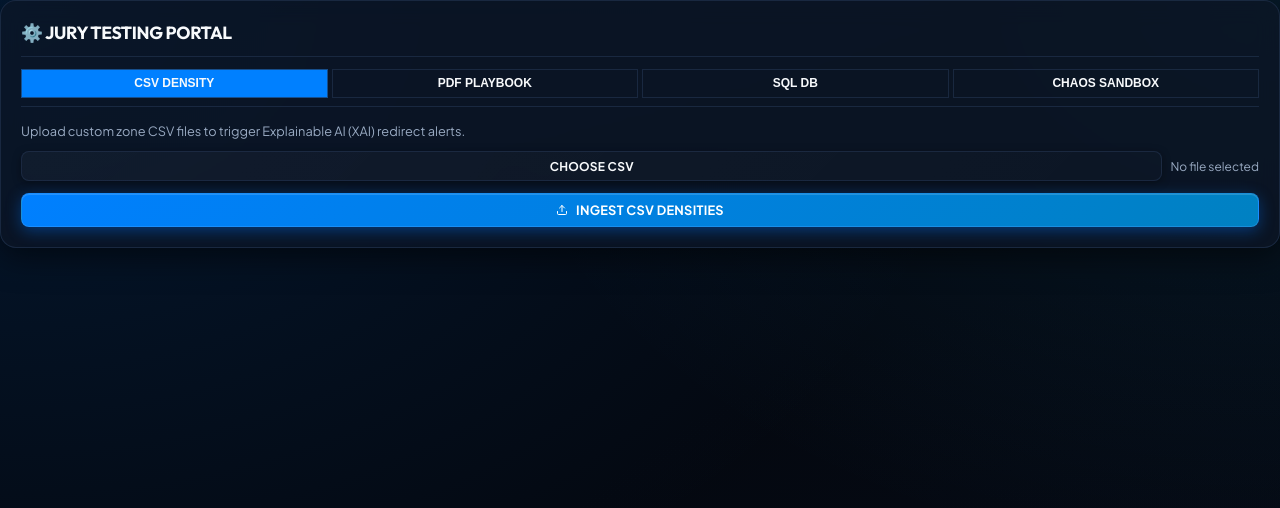
CsvUploader Chaos Simulator Portal › renders chaos simulation buttons when active
Click the tab "Chaos Sandbox". click: (1106, 83)
box: [952,69,1259,98]
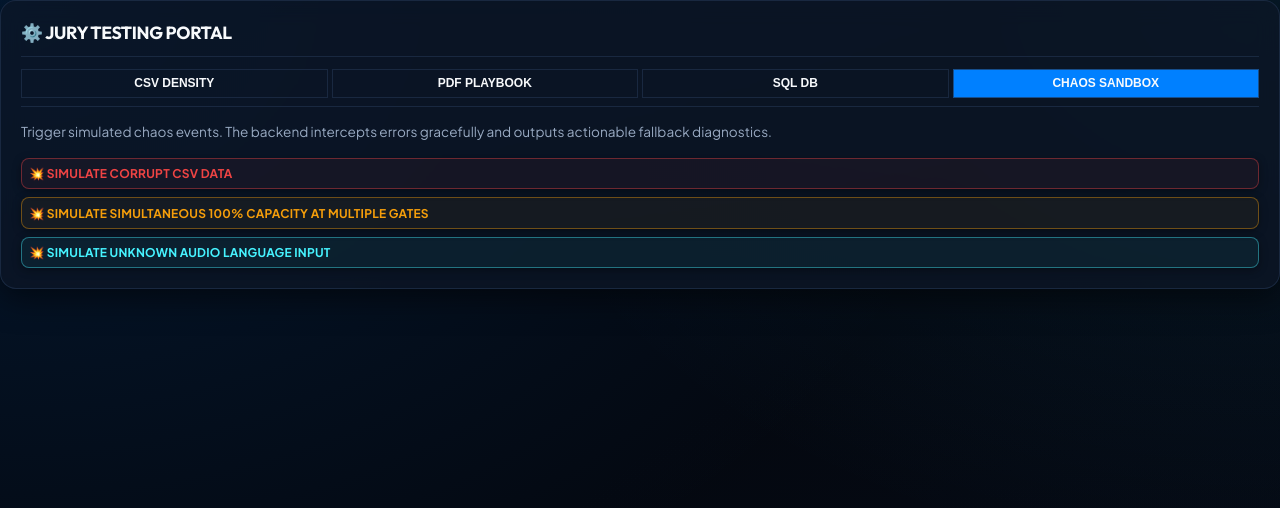
Expected: the button "💥 Simulate Corrupt CSV Data" is shown, [21,158,1259,189]
Expected: the button "💥 Simulate Simultaneous 100% Capacity at Multiple Gates" is shown, [21,197,1259,229]
Expected: the button "💥 Simulate Unknown Audio Language Input" is shown, [21,237,1259,268]
